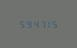five: (17, 20, 23, 28), (53, 20, 59, 28)
four: (32, 20, 38, 28)
nine: (24, 20, 30, 28)
one: (46, 20, 52, 28)
seven: (39, 20, 45, 28)
